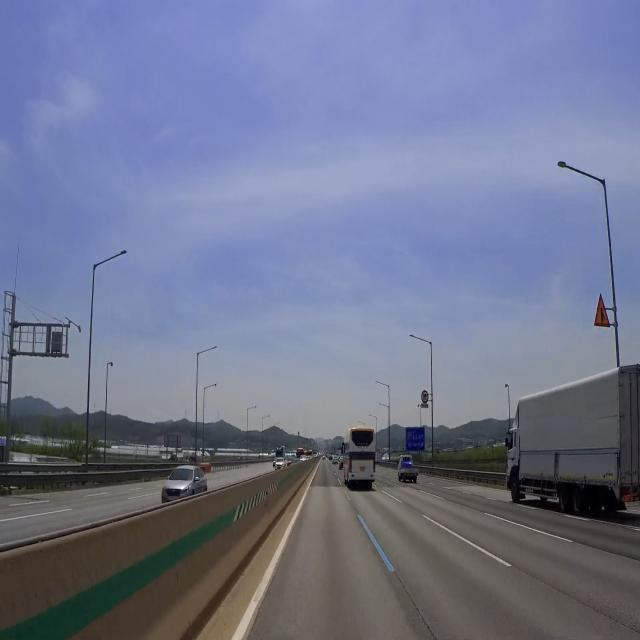car: (357, 463, 369, 481), (166, 496, 182, 504)
